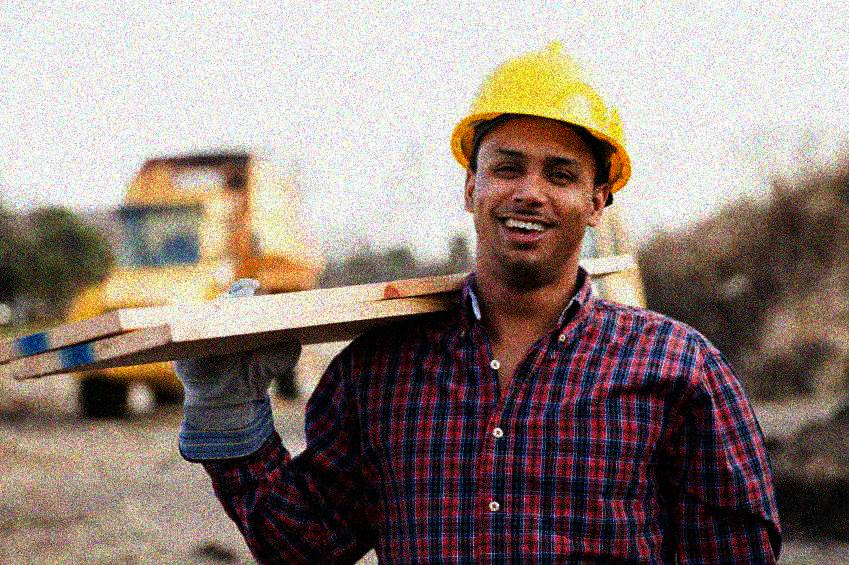helmet: (447, 42, 633, 277)
